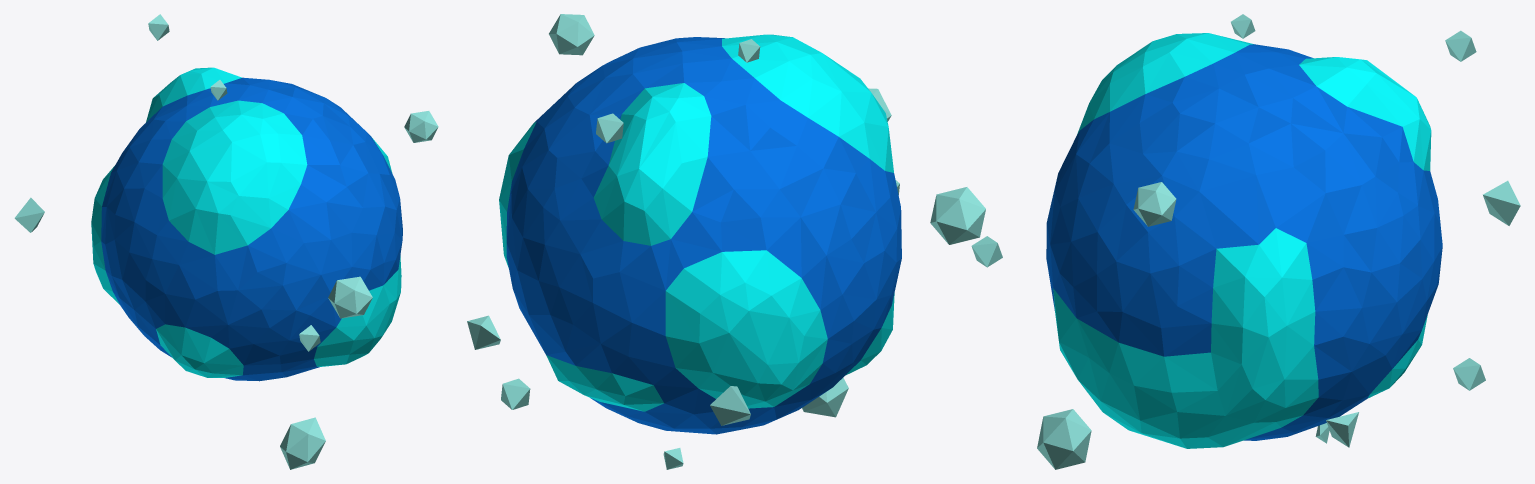
File: planet_10.fbx
3 views of the same model, side by side, from view 1: azimuth 30°, elevation 25°; view 2: azimuth 150°, elevation 25°; view 3: azimuth 270°, elevation 25° (orthographic). The views are drawn at different scales.
Parts seen in each view (by area): view 1: planet_10; view 2: planet_10; view 3: planet_10.
Boxes of the visible parts, <box> form: planet_10: <box>14,14,438,469</box>; planet_10: <box>467,14,901,469</box>; planet_10: <box>930,14,1520,469</box>.
Size of the model in its own units: 877 by 644 by 725.
